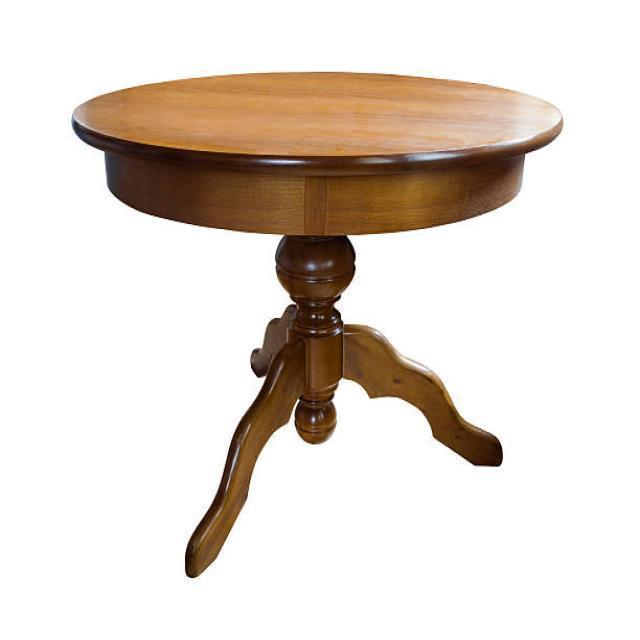table: (70, 69, 564, 577)
